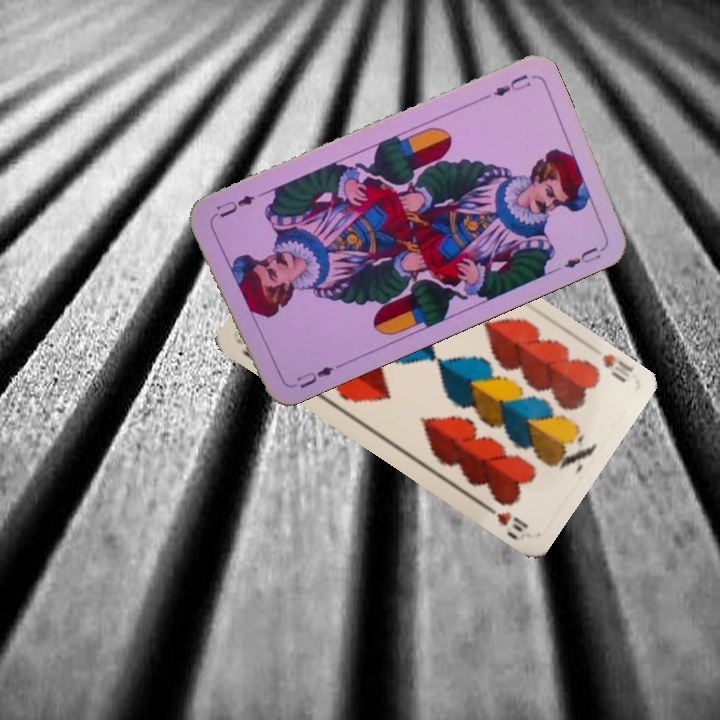EU: (477, 70, 534, 103), (292, 362, 336, 392)
H10: (598, 349, 636, 386)
